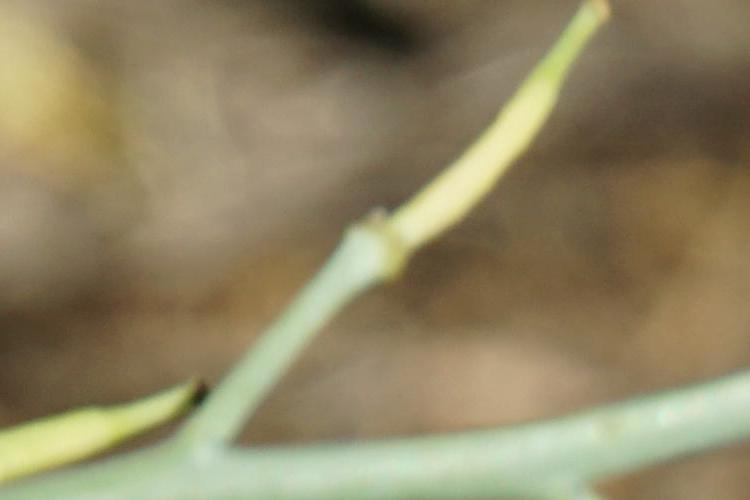pod: (339, 9, 624, 278), (2, 366, 216, 480)
